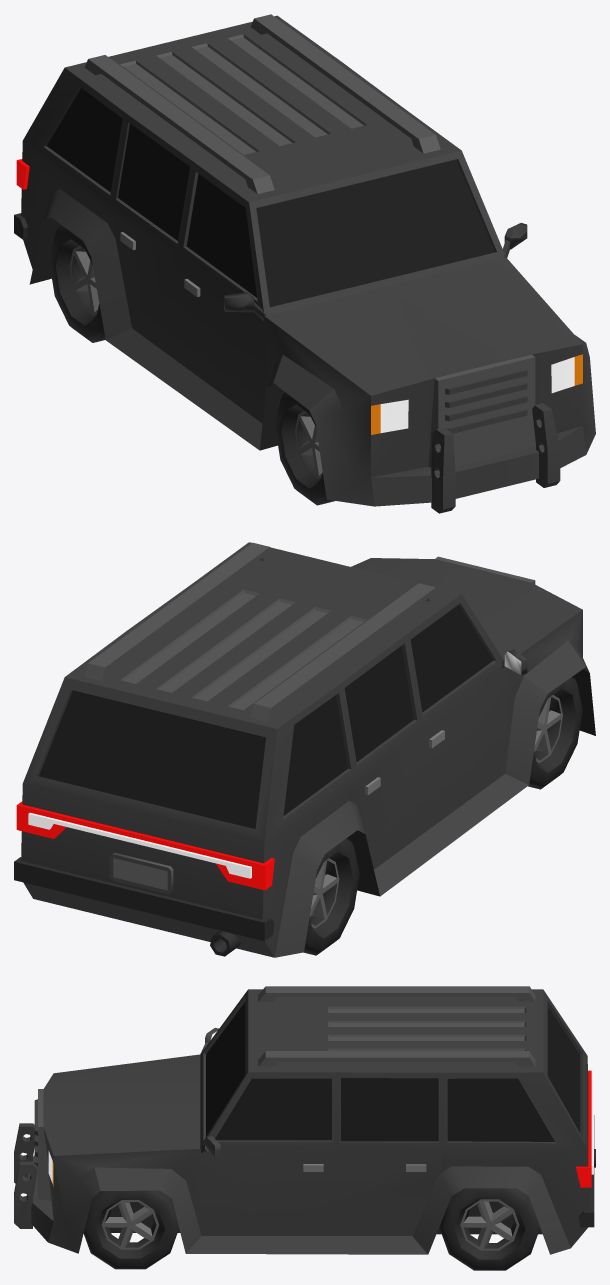
Rendered from armor.glb.
The picture shows the model from 3 angles, top to bottom: view 1: azimuth 30°, elevation 25°; view 2: azimuth 150°, elevation 25°; view 3: azimuth 270°, elevation 25°; orthographic projection. The views are drawn at different scales.
Visible parts, largest first — view 1: armor, wheels.011, wheels.010; view 2: armor, wheels.011, wheels.010; view 3: armor, wheels.048, wheels.049.
Boxes of the visible parts, x1,y1,x2,y2 form: armor: [14, 14, 595, 513]; wheels.011: [49, 226, 105, 342]; wheels.010: [275, 393, 334, 505]; armor: [14, 542, 595, 957]; wheels.011: [303, 838, 359, 955]; wheels.010: [528, 677, 582, 789]; armor: [14, 986, 595, 1254]; wheels.048: [439, 1188, 540, 1270]; wheels.049: [83, 1190, 179, 1269].
Bounding box in the file's own units: 2.47 × 1.97 × 5.15.
4 materials, 4 textured.
